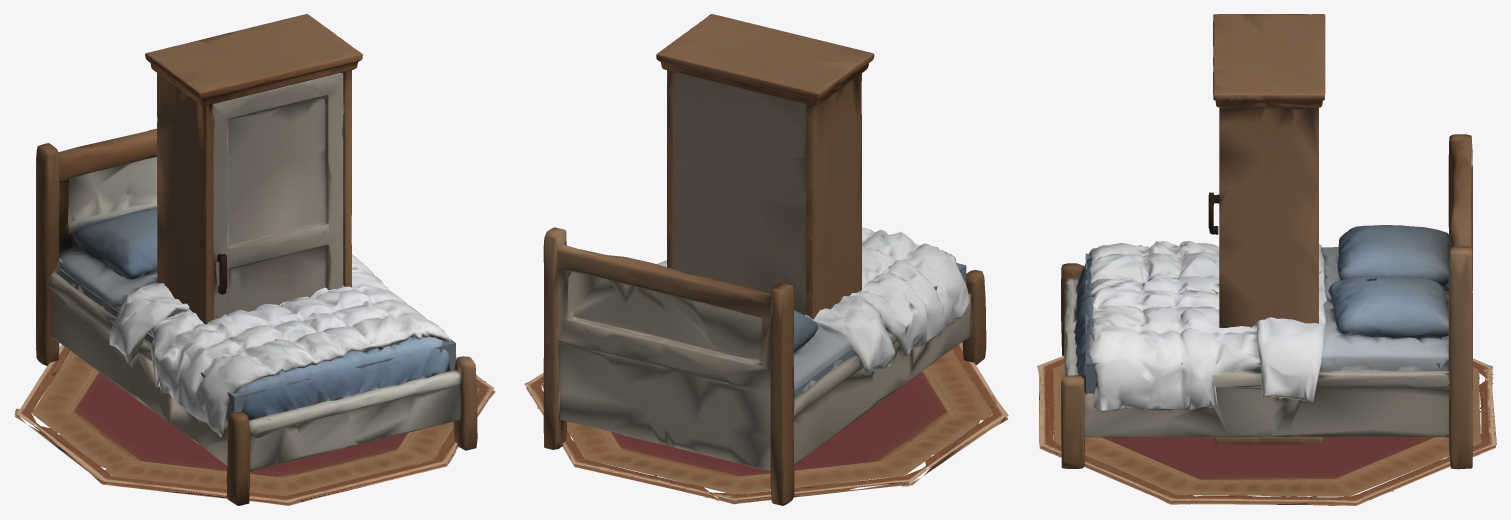
Rendered from chambre.glb.
3 renders of one model, left to right at view 1: azimuth 30°, elevation 25°; view 2: azimuth 150°, elevation 25°; view 3: azimuth 270°, elevation 25°, orthographic.
Visible parts, largest first — view 1: lit, porte, armoire, tapis-chambre, couette; view 2: lit, armoire, tapis-chambre, couette; view 3: lit, armoire, couette, tapis-chambre.
Boxes of the visible parts, x1=… form: lit: x1=36, y1=115, x2=477, y2=505; porte: x1=208, y1=73, x2=344, y2=319; armoire: x1=145, y1=14, x2=362, y2=324; tapis-chambre: x1=14, y1=344, x2=495, y2=505; couette: x1=109, y1=254, x2=456, y2=437; lit: x1=543, y1=227, x2=986, y2=505; armoire: x1=656, y1=14, x2=874, y2=319; tapis-chambre: x1=524, y1=342, x2=1008, y2=504; couette: x1=657, y1=227, x2=969, y2=374; lit: x1=1061, y1=134, x2=1472, y2=469; armoire: x1=1213, y1=14, x2=1325, y2=444; couette: x1=1088, y1=241, x2=1339, y2=411; tapis-chambre: x1=1037, y1=354, x2=1496, y2=505.
Bounding box in the file's own units: 2.3 × 1.95 × 2.29.
Materials: 9 (9 with a texture image).
